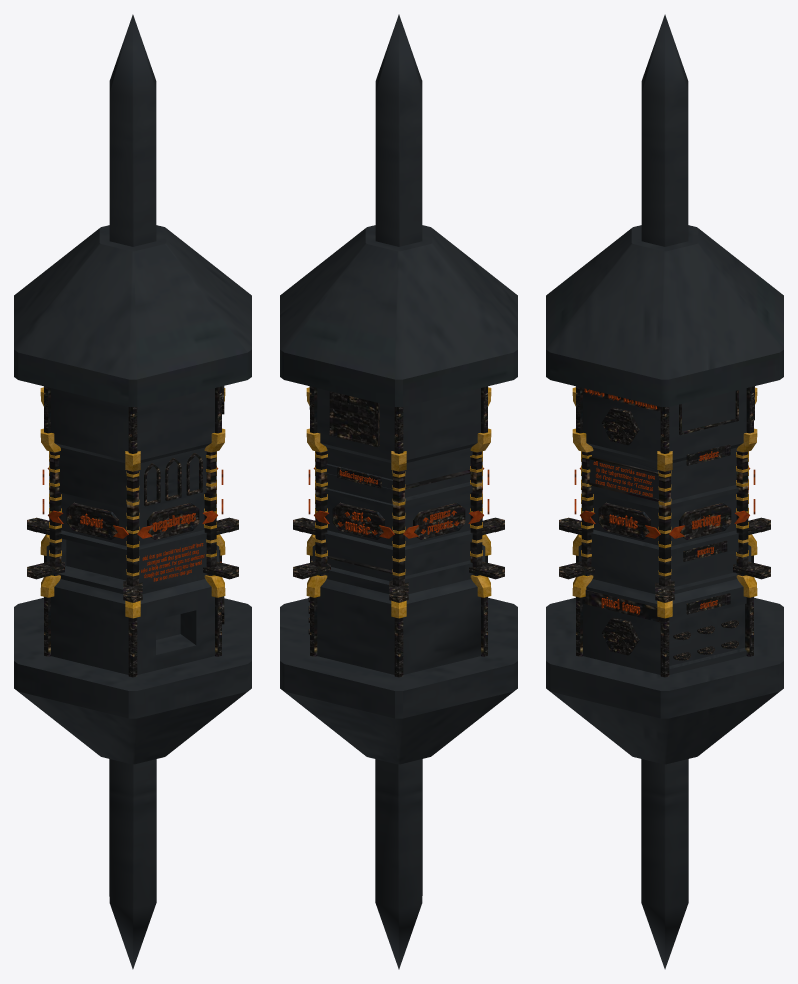
The model's file is HexCoreFallback256-transformed.glb.
3 views of the same model, side by side, from view 1: azimuth 30°, elevation 25°; view 2: azimuth 150°, elevation 25°; view 3: azimuth 270°, elevation 25° (orthographic).
Parts seen in each view (by area): view 1: HexCoreFallback; view 2: HexCoreFallback; view 3: HexCoreFallback.
Part boxes in pixels (x1=…): HexCoreFallback: x1=14, y1=14, x2=251, y2=969; HexCoreFallback: x1=280, y1=14, x2=517, y2=969; HexCoreFallback: x1=546, y1=14, x2=783, y2=969.
Bounding box in the file's own units: 2.71 × 10.58 × 2.39.
1 material, 1 textured.
